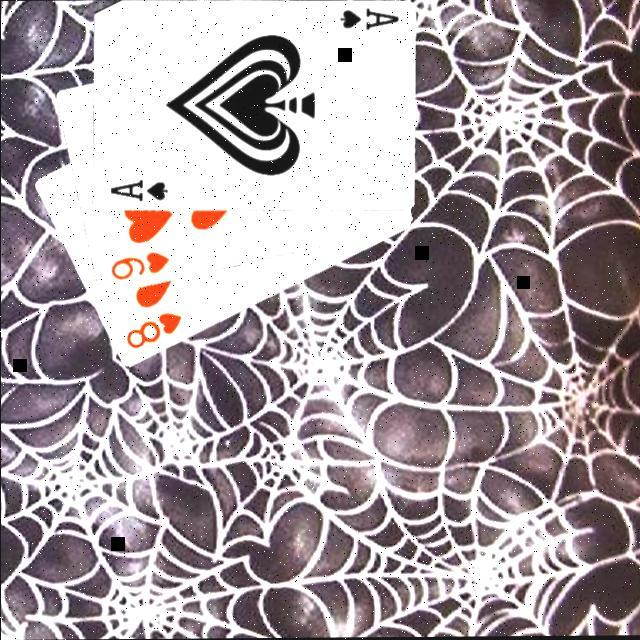8H: (124, 311, 186, 353)
9H: (108, 250, 172, 284)
AS: (106, 177, 170, 206), (337, 6, 402, 34)
